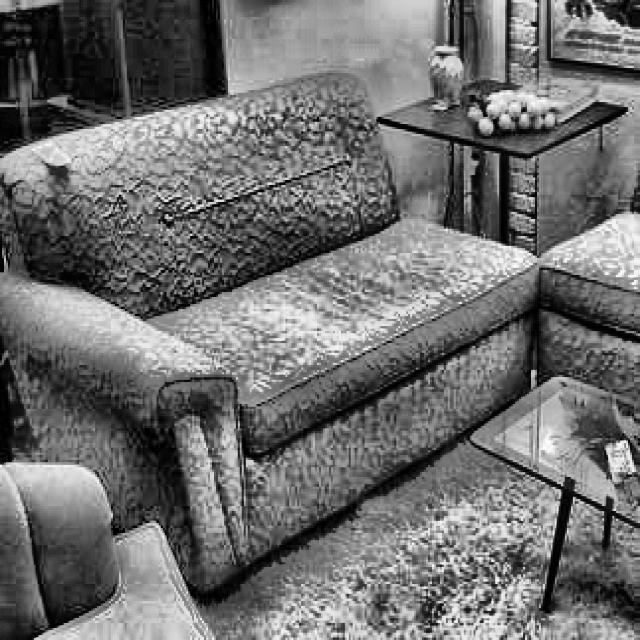sofa: (0, 73, 537, 596)
